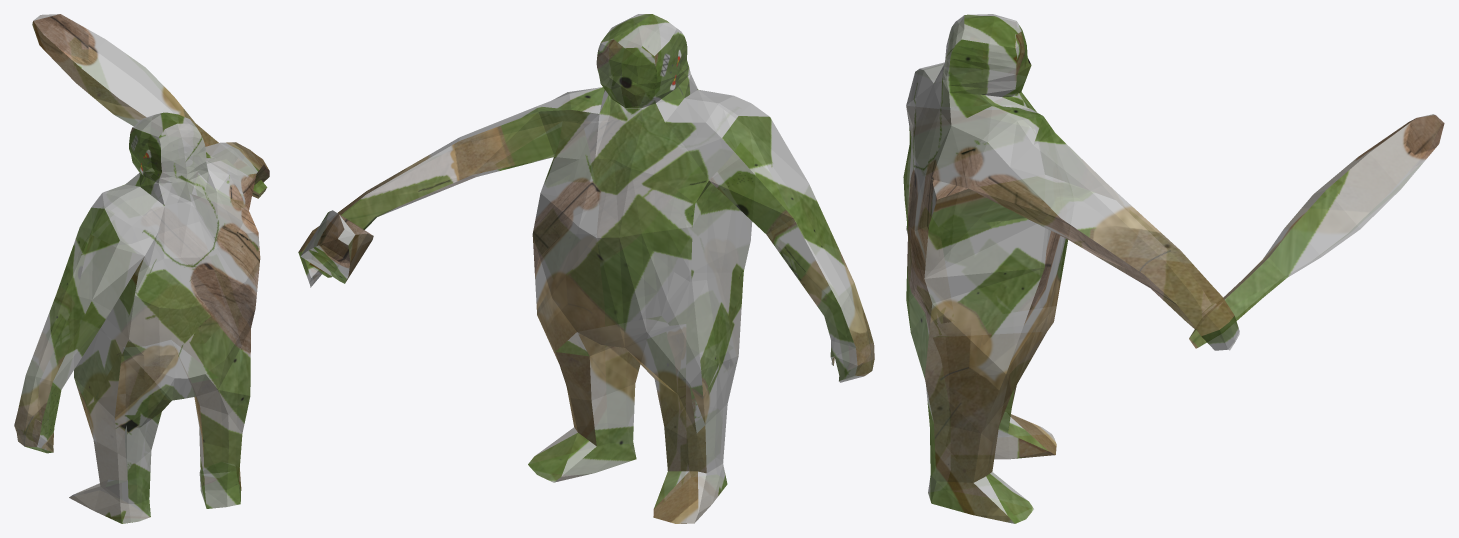
File: Enemigo217.obj
3 views of the same model, side by side, from view 1: azimuth 30°, elevation 25°; view 2: azimuth 150°, elevation 25°; view 3: azimuth 270°, elevation 25° (orthographic). The views are drawn at different scales.
Parts seen in each view (by area): view 1: Cube; view 2: Cube; view 3: Cube.
Part boxes in pixels (box(x1,y1,x2,y2)): Cube: box(14, 14, 269, 523); Cube: box(298, 14, 874, 523); Cube: box(903, 14, 1444, 523).
Bounding box in the file's own units: 2.63 × 2.7 × 2.86.
1 material, 1 textured.
